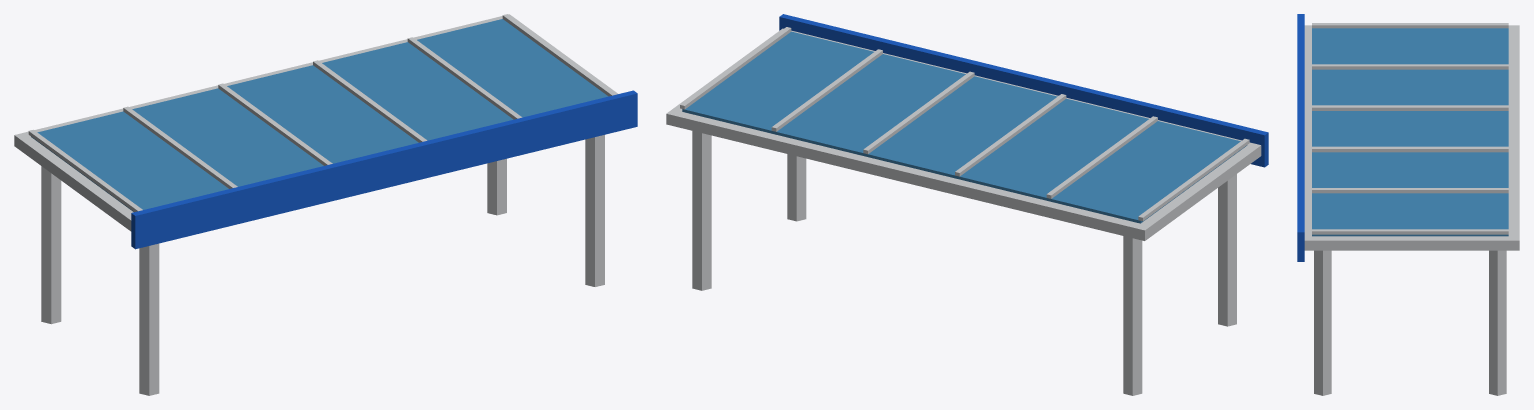
Rendered from kanopi.glb.
3 views of the same model, side by side, from view 1: azimuth 30°, elevation 25°; view 2: azimuth 150°, elevation 25°; view 3: azimuth 270°, elevation 25° (orthographic). The views are drawn at different scales.
Parts seen in each view (by area): view 1: potongan_kanopi; view 2: potongan_kanopi; view 3: potongan_kanopi.
Part boxes in pixels (x1=…): potongan_kanopi: x1=14, y1=14, x2=637, y2=395; potongan_kanopi: x1=666, y1=14, x2=1268, y2=395; potongan_kanopi: x1=1297, y1=14, x2=1519, y2=395.
Size of the model in its own units: 14.2 by 5.2 by 6.1.
